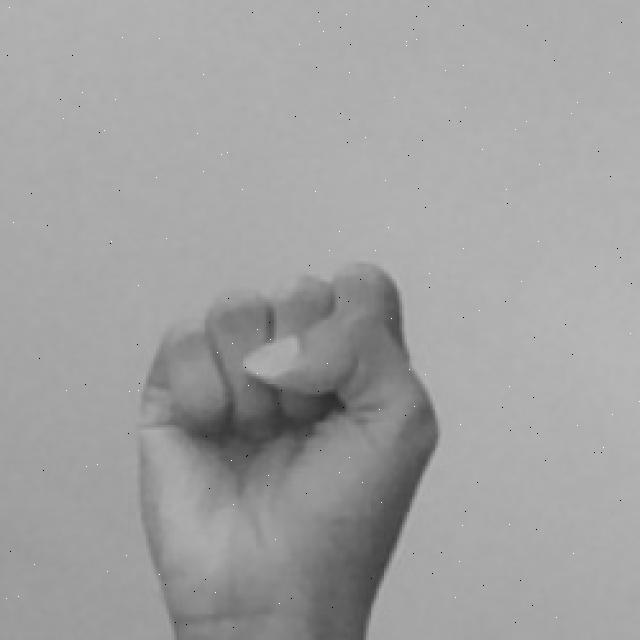S: (134, 257, 448, 640)
